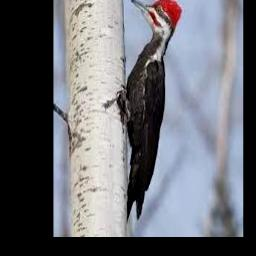Woodpecker: (119, 0, 182, 223)
